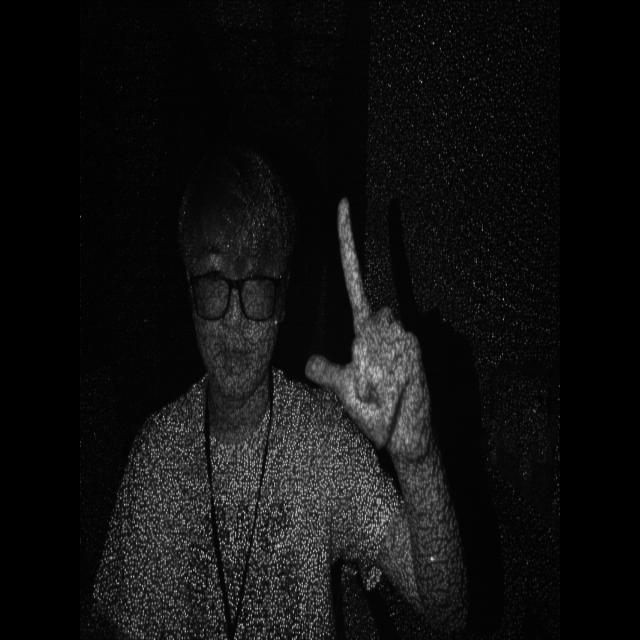L: (293, 186, 452, 489)
